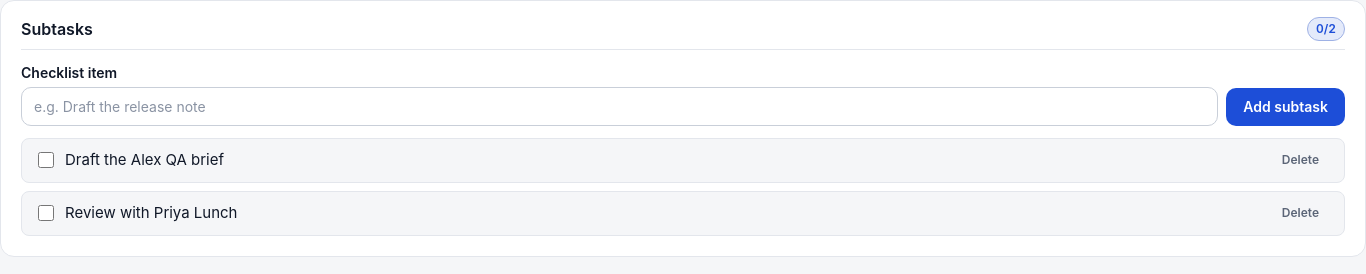
Scenario: ChecklistPanel › deletes an item from the list, with no confirmation step
Expected: the checkbox labelled "Draft the Alex QA brief" is shown, [38,152,54,168]
Expected: the list item with test id "checklist-item" showing "Draft the Alex QA brief Delete" is shown, [21,138,1345,183]
Click the button "Delete" in the row of "Draft the Alex QA brief" at (1300, 160), box [1269,147,1332,174]
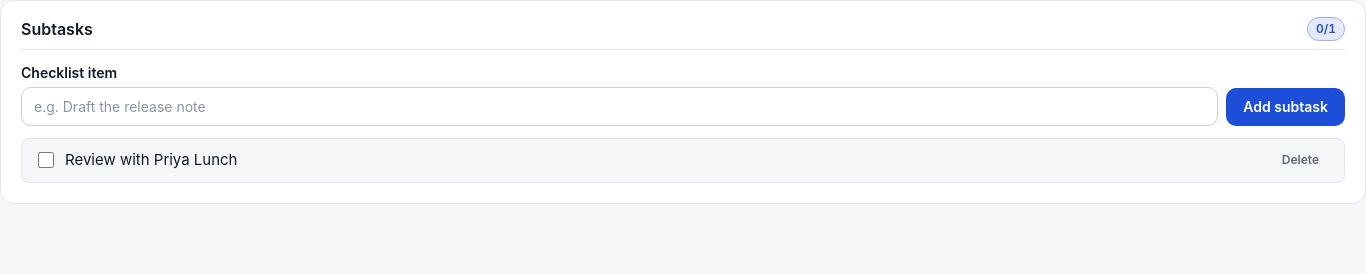
Expected: the checkbox labelled "Review with Priya Lunch" is shown, [38,152,54,168]
Result: the text "Draft the Alex QA brief" is gone
Result: the text with test id "checklist-progress" reads "0/1" at [1316,21,1336,36]
